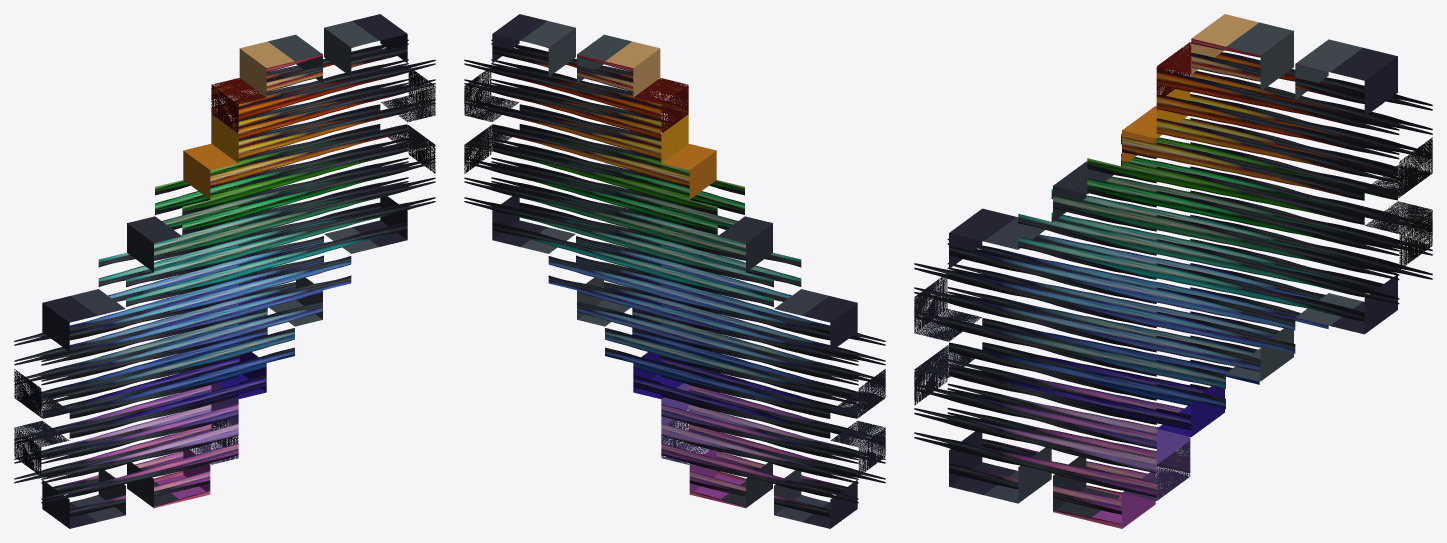
The model's file is creation_core.obj.
3 views of the same model, side by side, from view 1: azimuth 30°, elevation 25°; view 2: azimuth 150°, elevation 25°; view 3: azimuth 330°, elevation 25° (orthographic). The views are drawn at different scales.
Parts seen in each view (by area): view 1: floatingCreationCore; view 2: floatingCreationCore; view 3: floatingCreationCore.
Part boxes in pixels (x1,y1,x2,y2): floatingCreationCore: (14, 14, 435, 528); floatingCreationCore: (464, 14, 885, 528); floatingCreationCore: (914, 14, 1432, 528).
Size of the model in its own units: 0.3763 by 0.3763 by 0.045.
